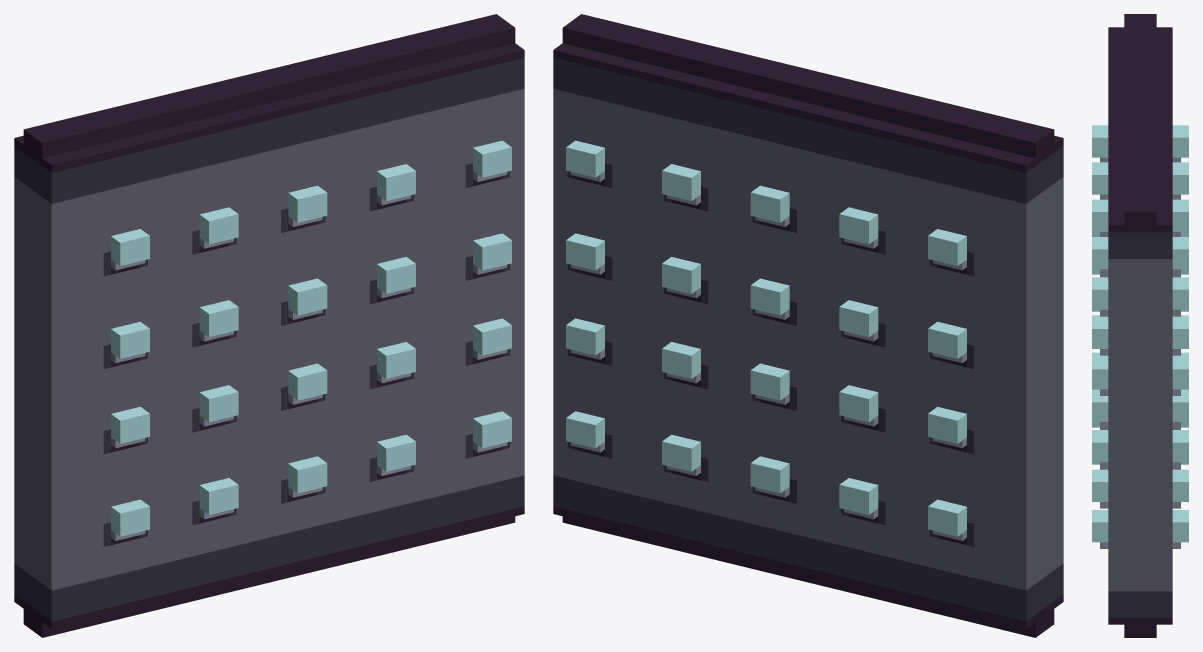
Rendered from pc_klavye_orta.fbx.
3 renders of one model, left to right at view 1: azimuth 30°, elevation 25°; view 2: azimuth 150°, elevation 25°; view 3: azimuth 270°, elevation 25°, orthographic. The views are drawn at different scales.
Visible parts, largest first — view 1: generated; view 2: generated; view 3: generated.
Part boxes in pixels (bbox=[...]): generated: bbox=[14, 14, 524, 637]; generated: bbox=[553, 14, 1063, 637]; generated: bbox=[1092, 14, 1188, 637].
Bounding box in the file's own units: 640 × 640 × 132.
